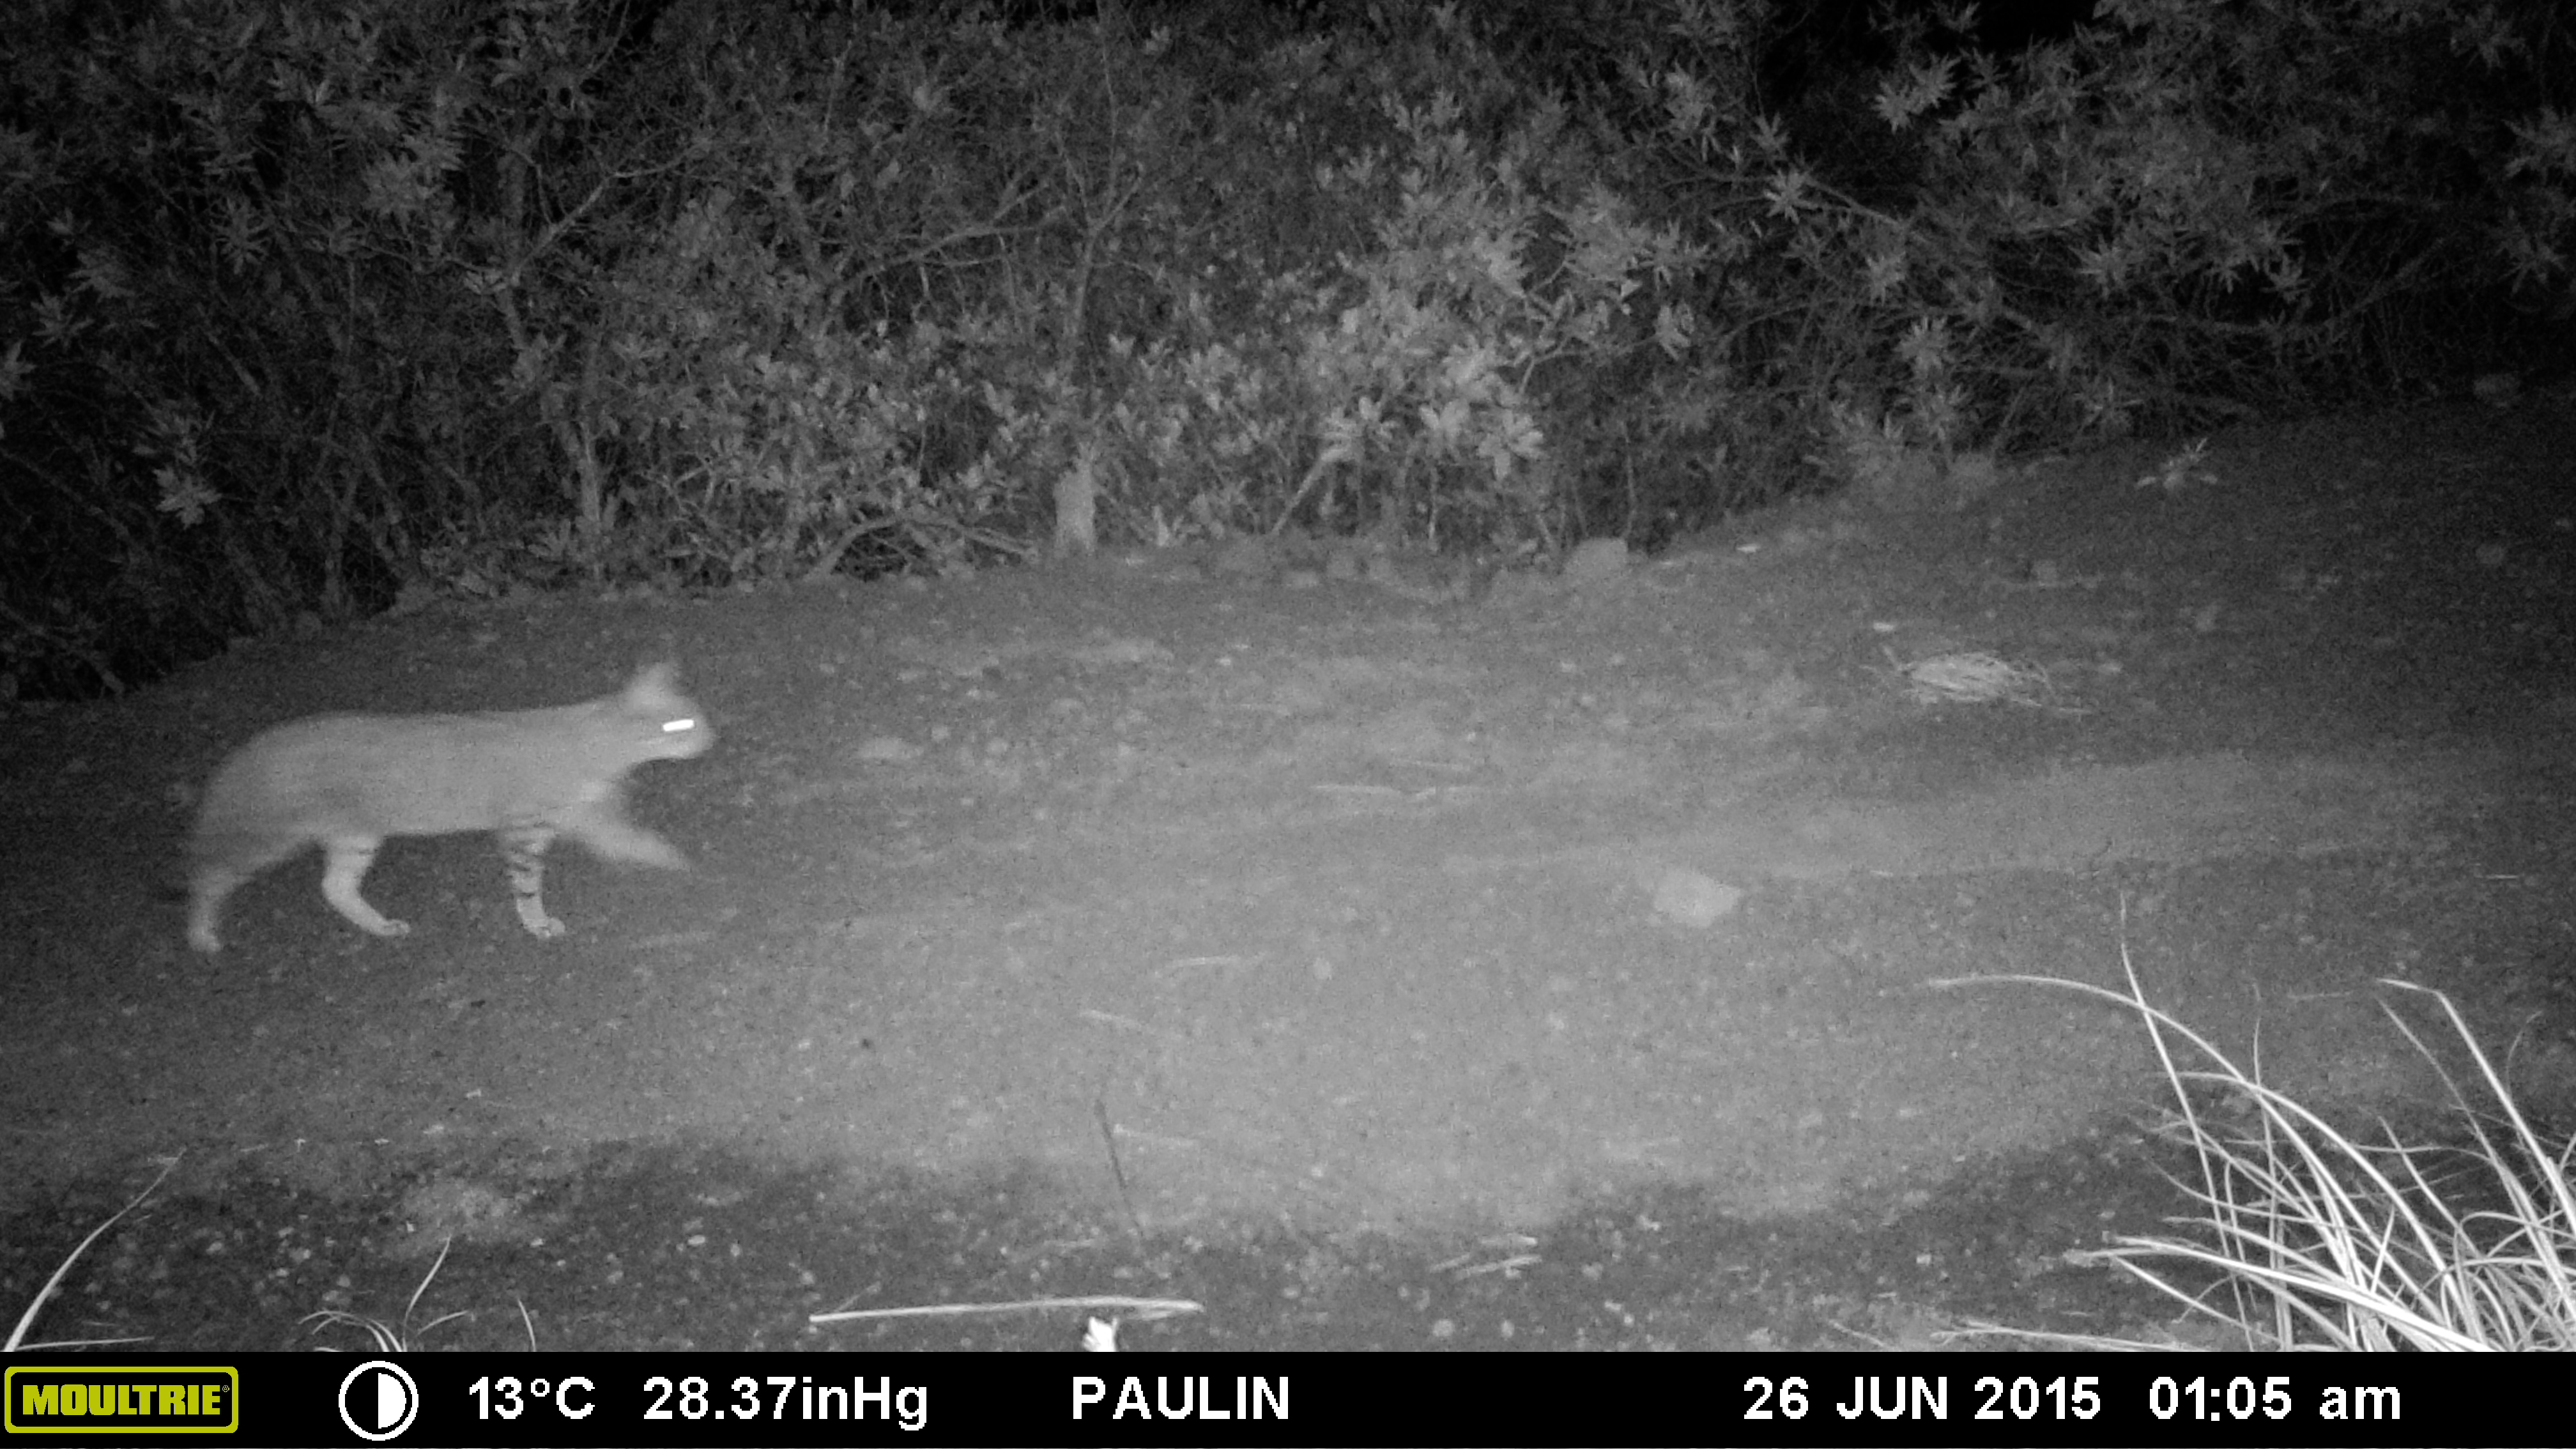cat: (175, 660, 743, 980)
